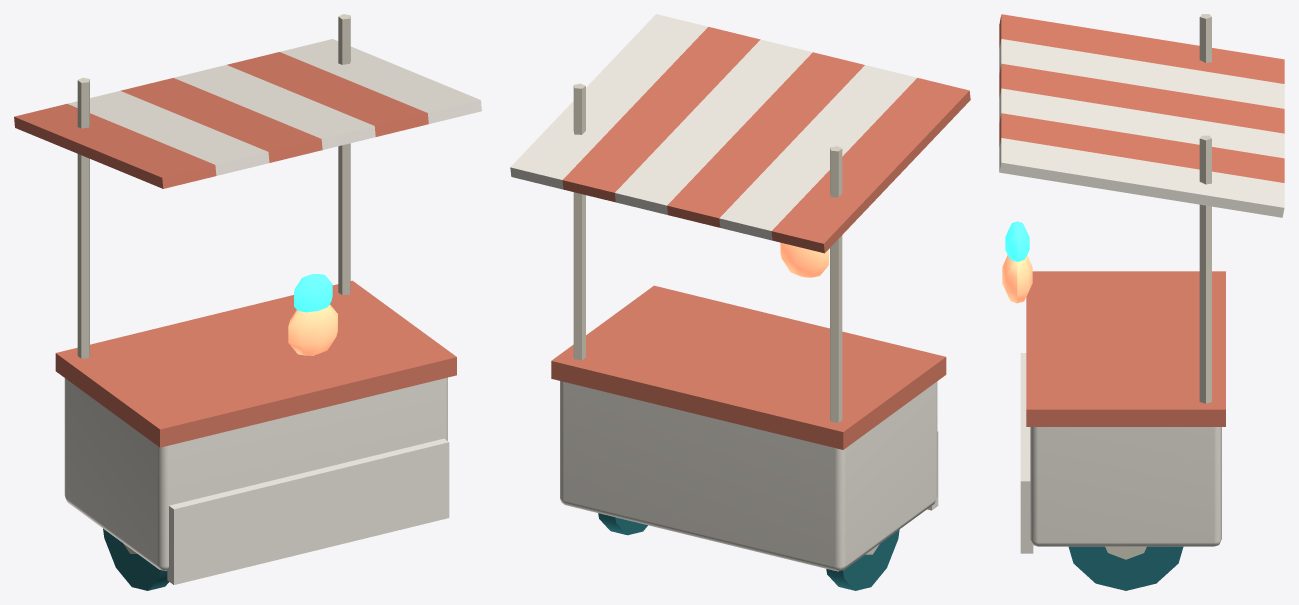
File: icecream_cart.glb
3 views of the same model, side by side, from view 1: azimuth 30°, elevation 25°; view 2: azimuth 150°, elevation 25°; view 3: azimuth 270°, elevation 25° (orthographic). The views are drawn at different scales.
Visible parts, largest first — view 1: icecream_cart; view 2: icecream_cart; view 3: icecream_cart.
Part boxes in pixels (box(x1,y1,x2,y2)): icecream_cart: box(14, 14, 481, 590); icecream_cart: box(510, 14, 970, 590); icecream_cart: box(999, 14, 1284, 590).
Bounding box in the file's own units: 2.2 × 3.15 × 1.78.
